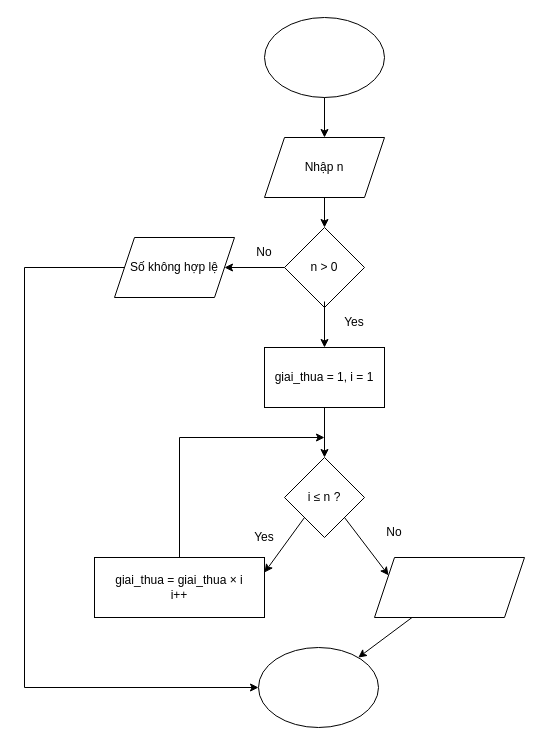
The diagram is 542 pixels wide and 745 high, and some of its shapes have lost their labels. The centre of each missing label's shape, as x and y in pixels:
"End" belongs at point (318, 687).
"Hi ể n th ị: giai_thua" belongs at point (449, 587).
"Start" belongs at point (324, 57).
